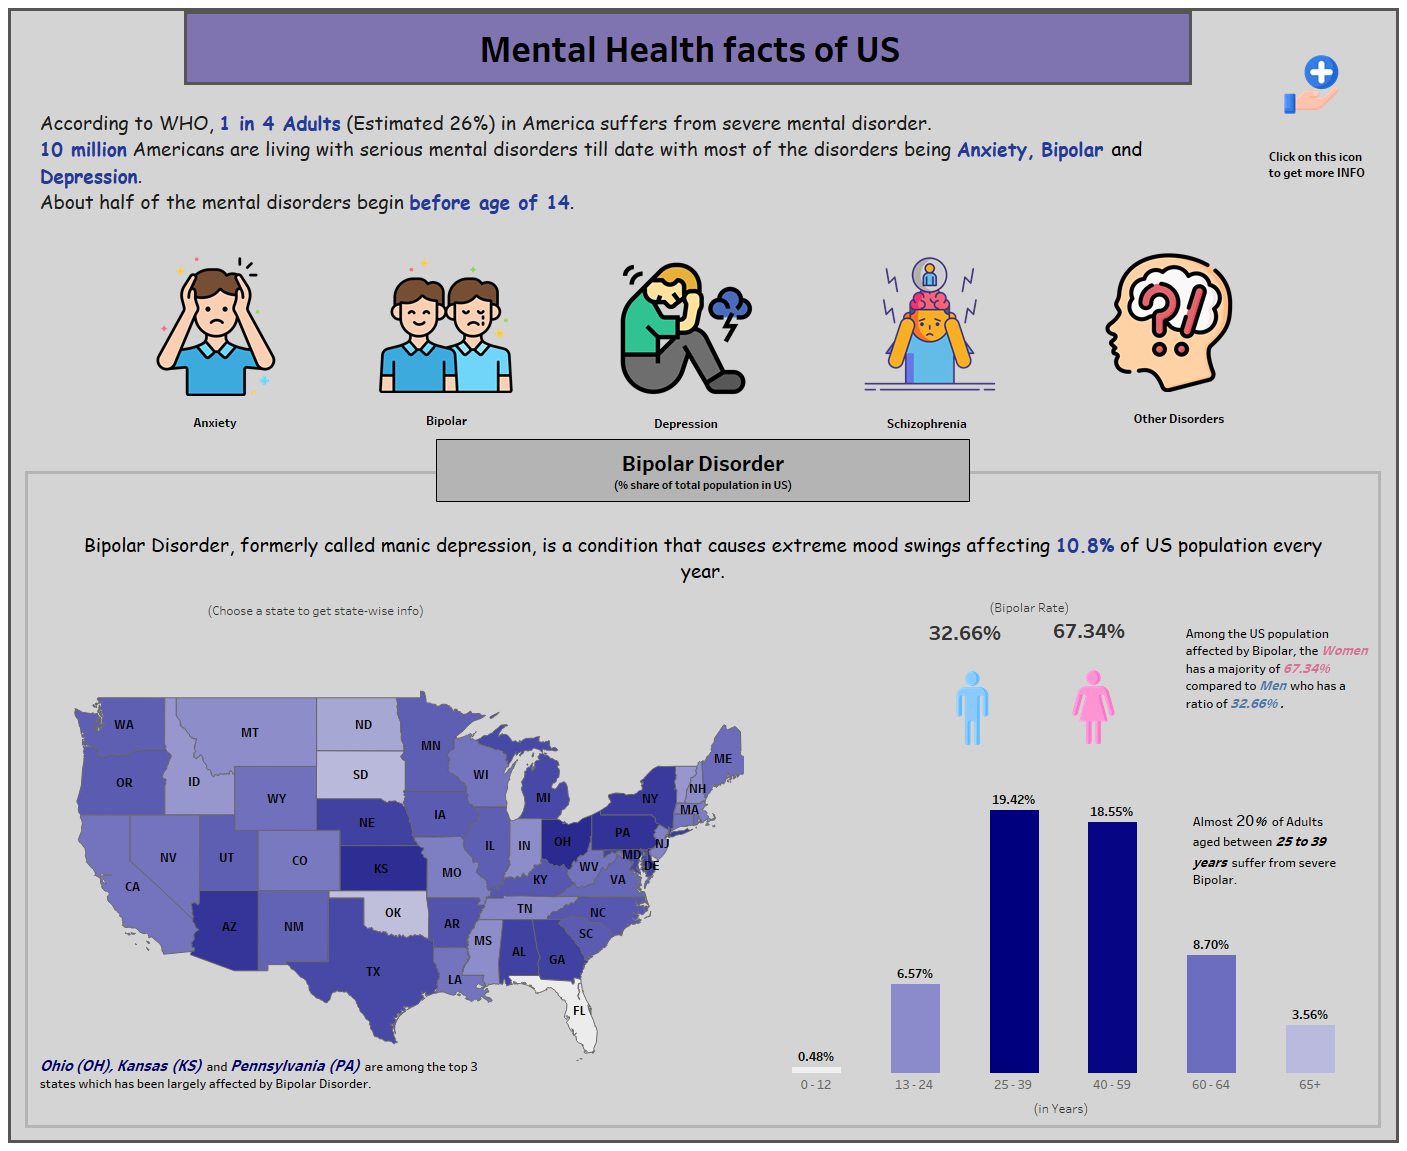

The dashboard page shown, as its layout file describes it:
{"tool":"tableau","page":{"name":"Dashboard 7_1_3","canvas":[1407,1151],"ordinal":2},"visuals":[{"type":"text","box":[241,11,932,71]},{"type":"image","param":"Image/medical-services.png","box":[1279,52,65,64]},{"type":"text","box":[37,89,1118,148]},{"type":"text","box":[1260,121,111,87]},{"type":"dashboard-object","box":[860.2,247.5,139.3,151.5]},{"type":"dashboard-object","box":[1098.8,248.9,139.3,147.4]},{"type":"dashboard-object","box":[377.9,252.9,135,146.1]},{"type":"dashboard-object","box":[616.5,252.9,139.3,150.1]},{"type":"dashboard-object","box":[146,254.3,139.3,144.7]},{"type":"text","box":[1113,400,132,36]},{"type":"text","box":[400.8,400.4,91.7,39.2]},{"type":"text","box":[169,401.7,91.7,40.6]},{"type":"text","box":[871,402,112,42]},{"type":"text","box":[640.2,404.4,91.7,37.9]},{"type":"text","box":[437,452,534,63]},{"type":"filter","title":"Depression_Map","param":"[federated.1oxck0e0dr8f3q0ztqk171cwpb6l].[none:LocationDesc:nk]","box":[22,479,1363,648]},{"type":"blank","box":[27,485,1360,637]},{"type":"text","box":[81,516,1244,84]},{"type":"text","box":[205,581,339,58]},{"type":"text","box":[966,582,155,50]},{"type":"image","param":"Image/female.png","box":[1055,588,74,220]},{"type":"text","box":[1183,592,193,155]},{"type":"image","param":"Image/male.png","box":[935,605,74,188]},{"type":"worksheet","title":"Male_Depression","mark":"Automatic","box":[928,627,118,38]},{"type":"worksheet","title":"Female_Depression","mark":"Automatic","box":[1047,627,106,34]},{"type":"worksheet","title":"Depression_Map","mark":"Multipolygon","box":[30,671,721,414]},{"type":"text","box":[1227,749,151,120]},{"type":"worksheet","title":"Depression_Bar","mark":"Automatic","rows":["BipolarCount (copy)_202943526286426114"],"cols":["Age"],"box":[772,767,600,315]},{"type":"text","box":[39,1039,443,90]},{"type":"text","box":[1034,1076,100,30]}]}

Visuals, with their boxes in screenshot pixels (x1, y1, x2, y2), scaled from the page's 1407x1151 canvas onto the 1407x1151 screenshot:
text: 241/11/1173/82
image: 1279/52/1344/116
text: 37/89/1155/237
text: 1260/121/1371/208
dashboard-object: 860/248/1000/399
dashboard-object: 1099/249/1238/396
dashboard-object: 378/253/513/399
dashboard-object: 616/253/756/403
dashboard-object: 146/254/285/399
text: 1113/400/1245/436
text: 401/400/492/440
text: 169/402/261/442
text: 871/402/983/444
text: 640/404/732/442
text: 437/452/971/515
"Depression_Map" filter: 22/479/1385/1127
blank: 27/485/1387/1122
text: 81/516/1325/600
text: 205/581/544/639
text: 966/582/1121/632
image: 1055/588/1129/808
text: 1183/592/1376/747
image: 935/605/1009/793
"Male_Depression" worksheet: 928/627/1046/665
"Female_Depression" worksheet: 1047/627/1153/661
"Depression_Map" worksheet (Multipolygon marks): 30/671/751/1085
text: 1227/749/1378/869
"Depression_Bar" worksheet: 772/767/1372/1082
text: 39/1039/482/1129
text: 1034/1076/1134/1106
